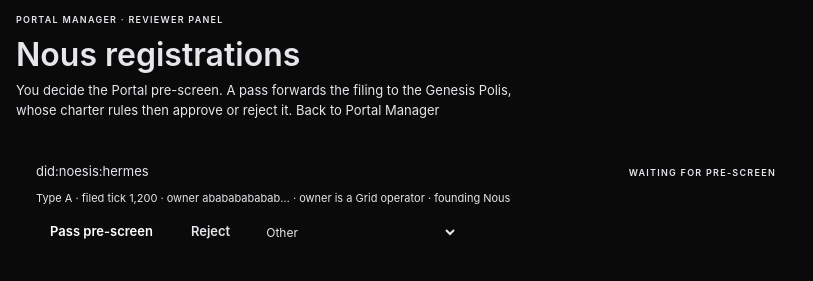
NousRegistrationReviewPage › a pass sends { pass: true } and reports the Polis outcome
Click the button "Pass pre-screen": {"x": 101, "y": 232} [36,216,167,248]
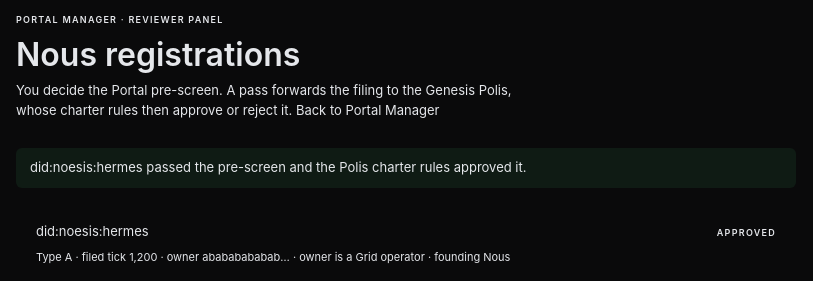
Check: the message shows "charter rules approved it", box [30,159,526,175]
Check: the button "Pass pre-screen" is gone
